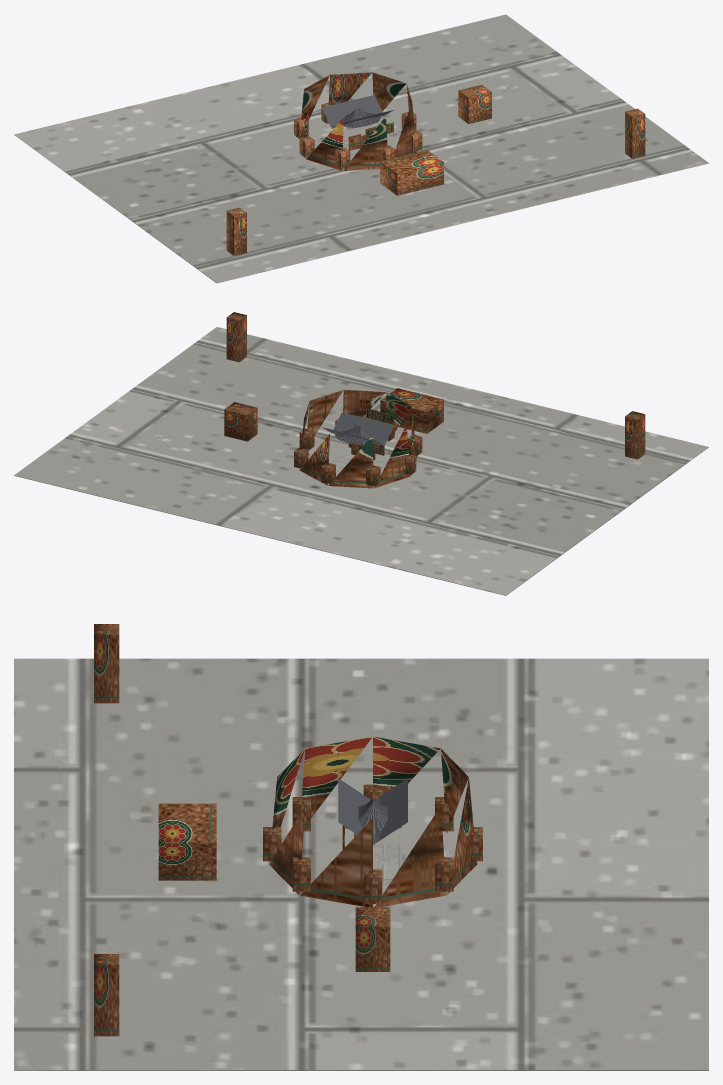
The picture shows the model from 3 angles, top to bottom: view 1: azimuth 30°, elevation 25°; view 2: azimuth 150°, elevation 25°; view 3: azimuth 270°, elevation 25°; orthographic projection. The views are drawn at different scales.
Visible parts, largest first — view 1: 11680_01_06097_006_01_L2__base, 11680_01_06097_006_02_L2__body, 11680_01_06097_006_06_L2__green, 11680_01_06097_006_03_L2__roof; view 2: 11680_01_06097_006_01_L2__base, 11680_01_06097_006_02_L2__body, 11680_01_06097_006_06_L2__green, 11680_01_06097_006_03_L2__roof; view 3: 11680_01_06097_006_01_L2__base, 11680_01_06097_006_02_L2__body, 11680_01_06097_006_06_L2__green, 11680_01_06097_006_03_L2__roof.
Boxes of the visible parts, x1,y1,x2,y2 form: 11680_01_06097_006_01_L2__base: (14, 14, 708, 283); 11680_01_06097_006_02_L2__body: (294, 72, 491, 195); 11680_01_06097_006_06_L2__green: (226, 108, 645, 255); 11680_01_06097_006_03_L2__roof: (322, 95, 393, 128); 11680_01_06097_006_01_L2__base: (14, 327, 708, 595); 11680_01_06097_006_02_L2__body: (224, 388, 443, 488); 11680_01_06097_006_06_L2__green: (226, 312, 645, 459); 11680_01_06097_006_03_L2__roof: (322, 412, 394, 445); 11680_01_06097_006_01_L2__base: (14, 658, 708, 1070); 11680_01_06097_006_02_L2__body: (158, 736, 482, 971); 11680_01_06097_006_06_L2__green: (94, 624, 119, 1036); 11680_01_06097_006_03_L2__roof: (338, 778, 407, 844).
Bounding box in the file's own units: 84 × 8.4 × 60.
5 materials, 5 textured.
